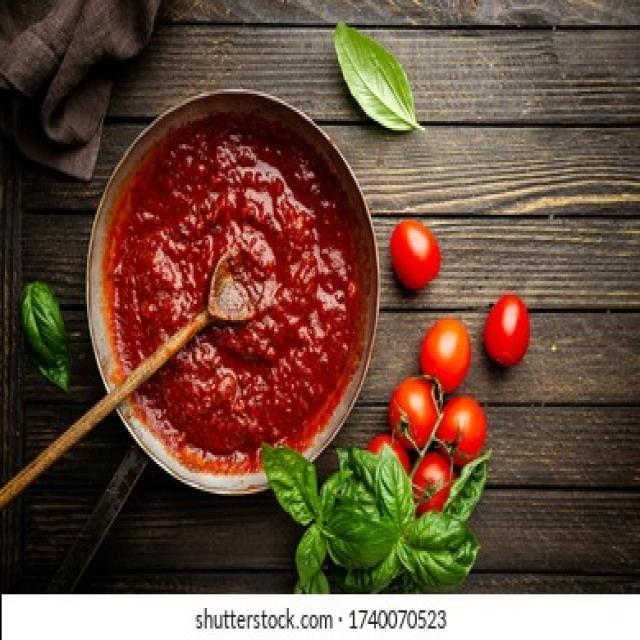kirmizi: (410, 316, 480, 472), (484, 298, 548, 372), (388, 210, 444, 294)
